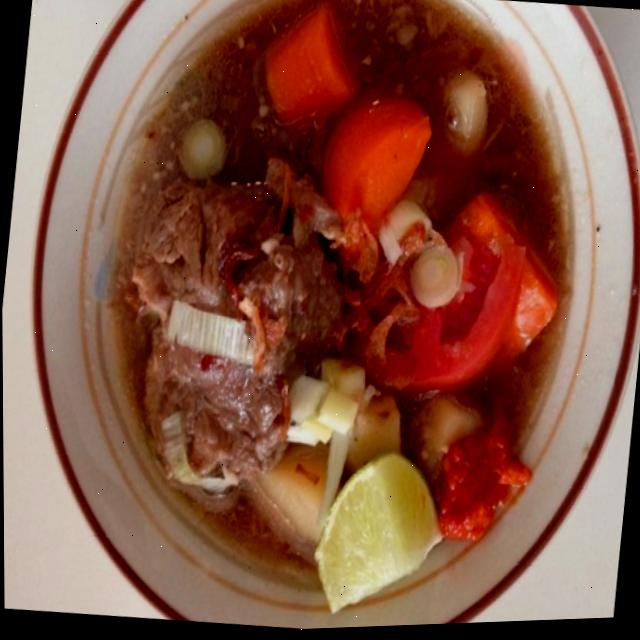汤锅炖物: (51, 0, 624, 603)
